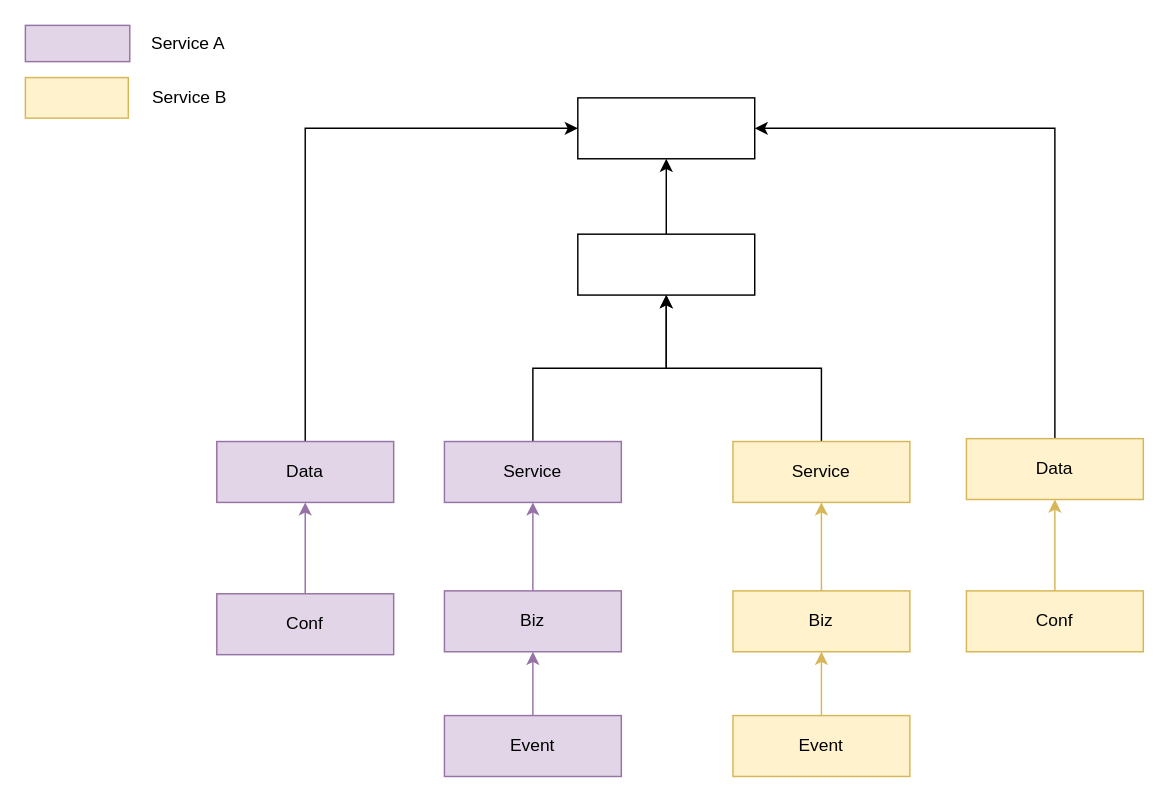
Image size: 1169x802. Some labels were removed from this diagram. The shapes that lost their labels are listed below. From the top down, each one's centre as x and y in pixels, then its label:
At [665,127]: "Host".
At [665,264]: "Server".
